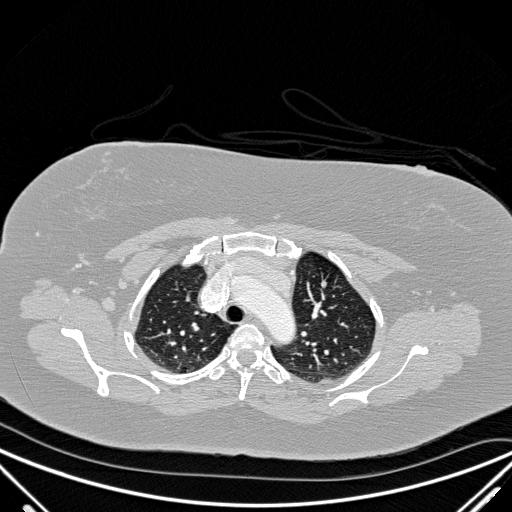nodule: (318, 278, 329, 289)
